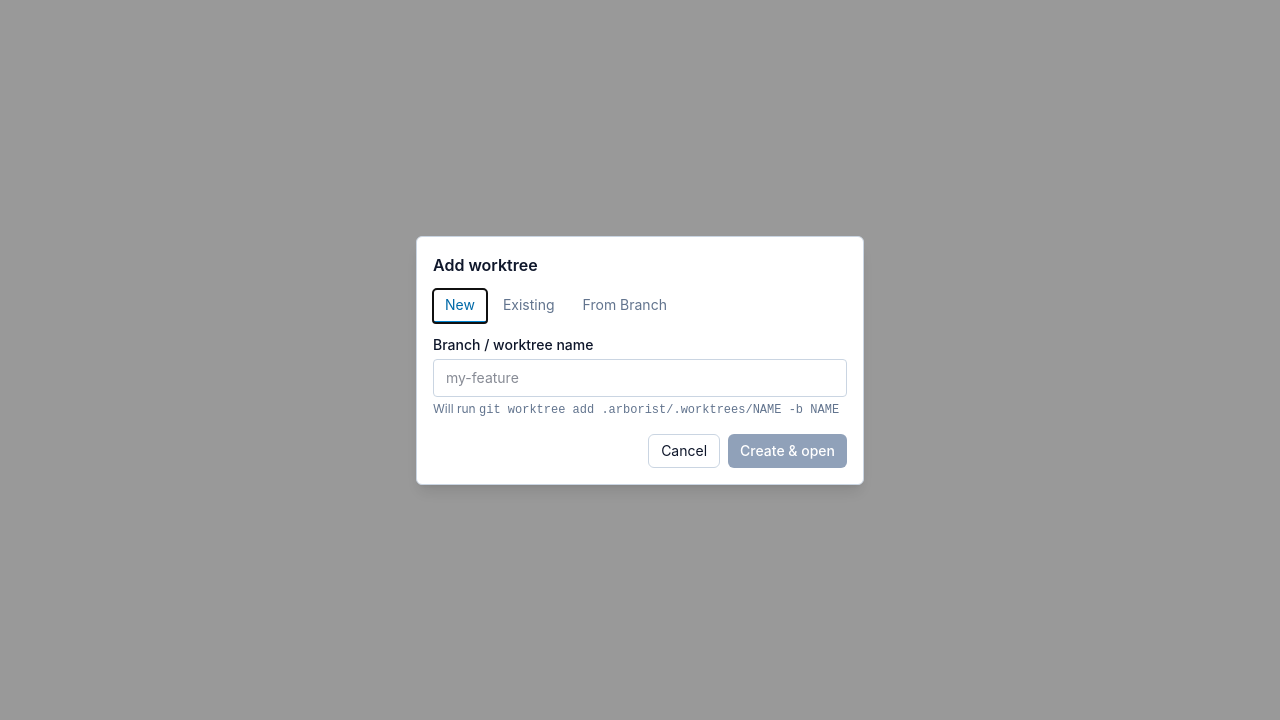
Test: NewSessionDialog › lists worktrees and supports Browse
Expected: the heading "Add worktree" is shown, [433,254,538,274]
What coordinates should you click on to do the following:
click the tab "Existing"
I would click on:
 (529, 306)
Its box is [491,288,567,322].
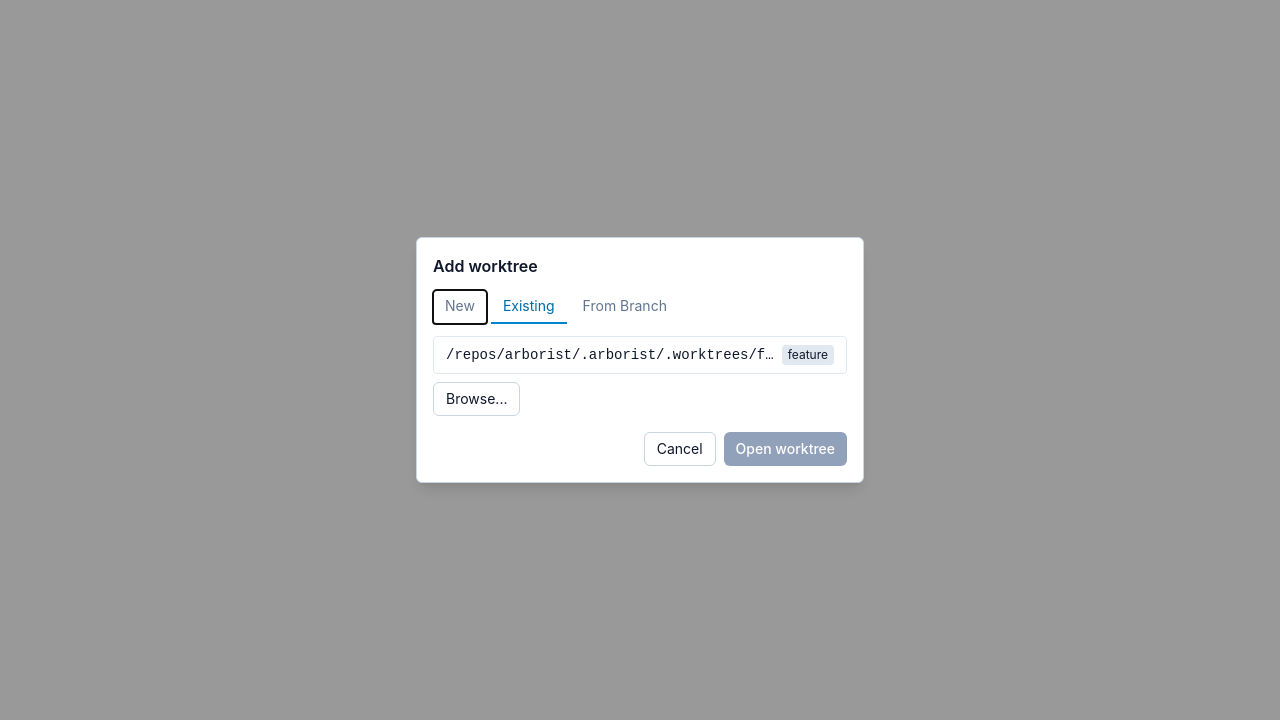
Result: the button "/repos/arborist/.arborist/.worktrees/feature feature" is shown
What coordinates should you click on to do the following:
click the button "/repos/arborist/.arborist/.worktrees/feature feature"
I would click on:
 (640, 355)
Its box is [434,337,846,373].
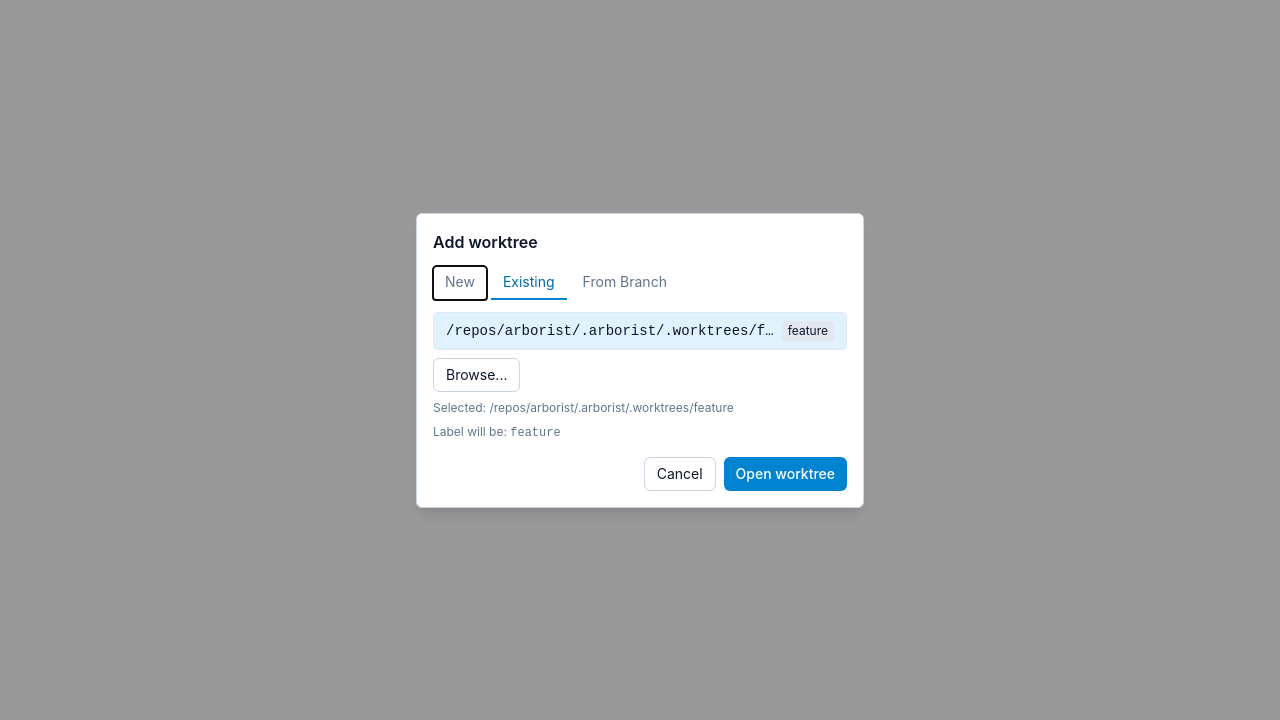
Result: the button "Open worktree" is enabled at [724,456,847,490]
What coordinates should you click on to do the following:
click the button "Browse..."
I would click on:
 (477, 374)
Its box is [433,358,520,392].
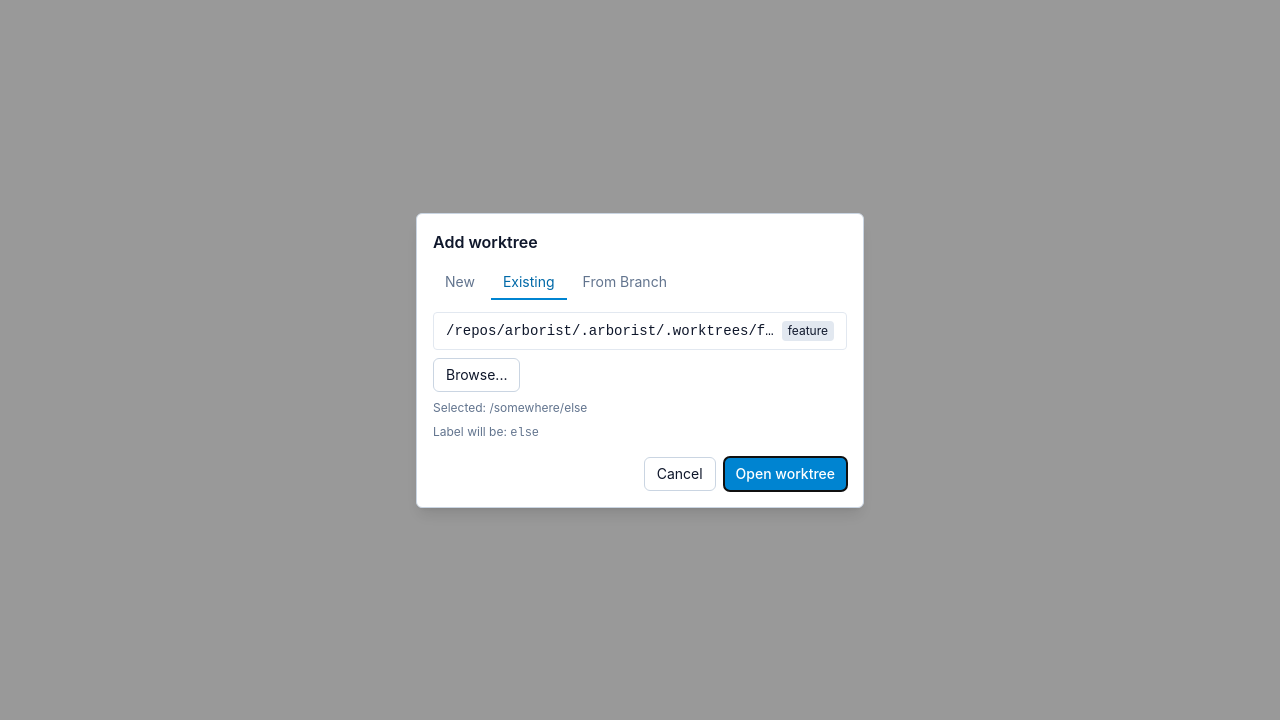
Result: the text "Selected: /somewhere/else" is shown at [433,400,587,414]
Result: the text "Label will be: else" is shown at [433,424,539,440]
